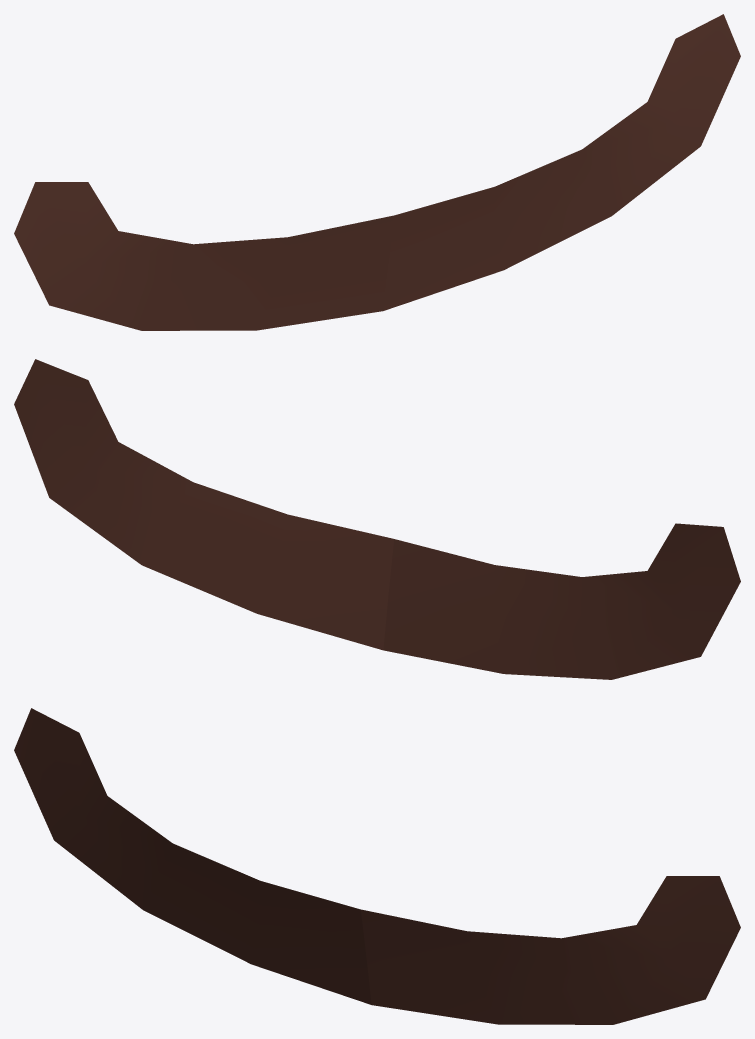
The model's file is Mouth_Black_2.fbx.
3 renders of one model, top to bottom at view 1: azimuth 30°, elevation 25°; view 2: azimuth 150°, elevation 25°; view 3: azimuth 330°, elevation 25°, orthographic.
Visible parts, largest first — view 1: Mouth_Black_2; view 2: Mouth_Black_2; view 3: Mouth_Black_2.
Part boxes in pixels (x1=…): Mouth_Black_2: x1=14, y1=14, x2=740, y2=330; Mouth_Black_2: x1=14, y1=359, x2=740, y2=679; Mouth_Black_2: x1=14, y1=708, x2=740, y2=1024.
Size of the model in its own units: 8.79 by 2.43 by 0.3997.
